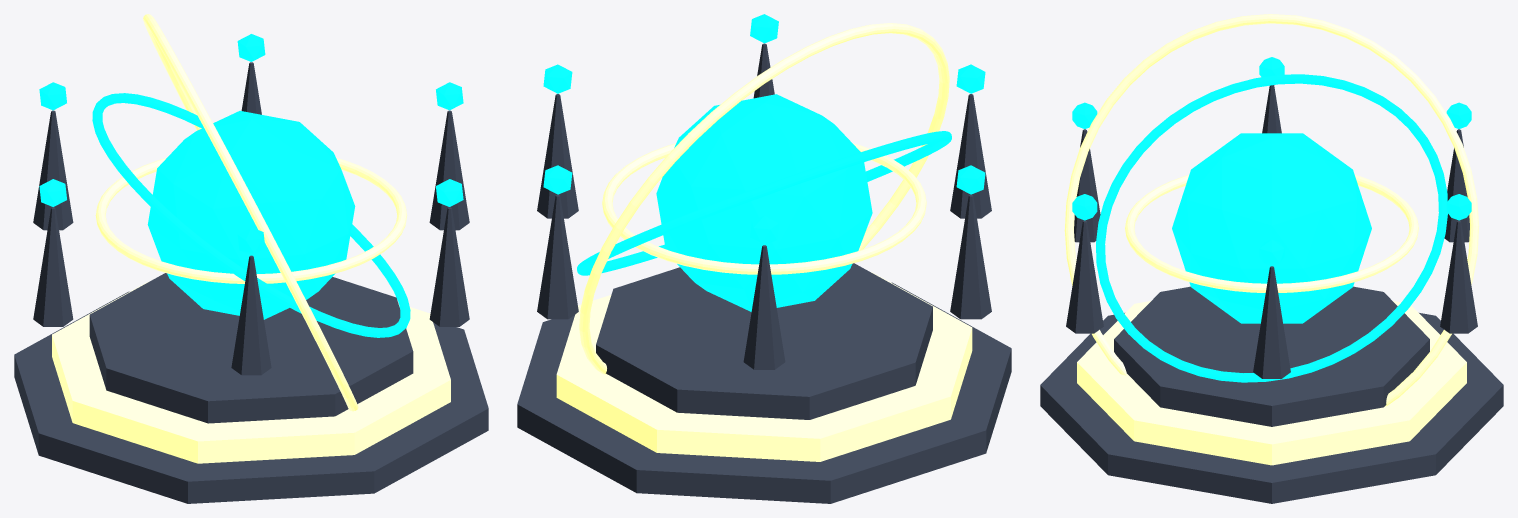
Rendered from gpu-blender-v10.glb.
3 renders of one model, left to right at view 1: azimuth 30°, elevation 25°; view 2: azimuth 150°, elevation 25°; view 3: azimuth 270°, elevation 25°, orthographic. The views are drawn at different scales.
Visible parts, largest first — view 1: Cylinder.002, SovereignCore_osint-scout-skill, Cylinder, Cylinder.001, Torus.001, Torus.002, Torus, Cone.004, Cone.003, Cone.005, Cone, Cone.002 (+7 smaller); view 2: Cylinder.002, SovereignCore_osint-scout-skill, Cylinder, Cylinder.001, Torus.002, Torus.001, Torus, Cone.001, Cone.003, Cone.002, Cone, Cone.004 (+6 smaller); view 3: SovereignCore_osint-scout-skill, Cylinder.002, Cylinder, Cylinder.001, Torus.001, Torus.002, Torus, Cone.001, Cone.005, Cone, Cone.004, Cone.002 (+4 smaller).
Boxes of the visible parts, bbox=[...] form: Cylinder.002: bbox=[89, 273, 413, 423]; SovereignCore_osint-scout-skill: bbox=[147, 110, 355, 319]; Cylinder: bbox=[14, 291, 488, 503]; Cylinder.001: bbox=[52, 281, 450, 463]; Torus.001: bbox=[92, 93, 410, 337]; Torus.002: bbox=[143, 14, 358, 411]; Torus: bbox=[95, 158, 407, 283]; Cone.004: bbox=[231, 255, 271, 375]; Cone.003: bbox=[33, 207, 73, 326]; Cone.005: bbox=[429, 207, 469, 326]; Cone: bbox=[429, 110, 469, 230]; Cone.002: bbox=[33, 110, 73, 230]; Cylinder.002: bbox=[596, 263, 932, 419]; SovereignCore_osint-scout-skill: bbox=[656, 94, 872, 311]; Cylinder: bbox=[517, 282, 1011, 503]; Cylinder.001: bbox=[556, 272, 972, 461]; Torus.002: bbox=[579, 23, 949, 374]; Torus.001: bbox=[577, 131, 951, 275]; Torus: bbox=[602, 143, 926, 274]; Cone.001: bbox=[537, 195, 578, 319]; Cone.003: bbox=[950, 195, 991, 319]; Cone.002: bbox=[743, 245, 785, 369]; Cone: bbox=[537, 94, 578, 218]; Cone.004: bbox=[950, 94, 991, 218]; SovereignCore_osint-scout-skill: bbox=[1172, 133, 1371, 323]; Cylinder.002: bbox=[1114, 286, 1429, 426]; Cylinder: bbox=[1040, 313, 1503, 503]; Cylinder.001: bbox=[1077, 301, 1466, 465]; Torus.001: bbox=[1096, 74, 1447, 382]; Torus.002: bbox=[1064, 14, 1479, 406]; Torus: bbox=[1125, 175, 1418, 292]; Cone.001: bbox=[1440, 220, 1477, 333]; Cone.005: bbox=[1066, 220, 1103, 333]; Cone: bbox=[1253, 266, 1290, 378]; Cone.004: bbox=[1074, 129, 1100, 242]; Cone.002: bbox=[1444, 129, 1469, 242].
Size of the model in its own units: 4.41 by 3.72 by 4.4.
